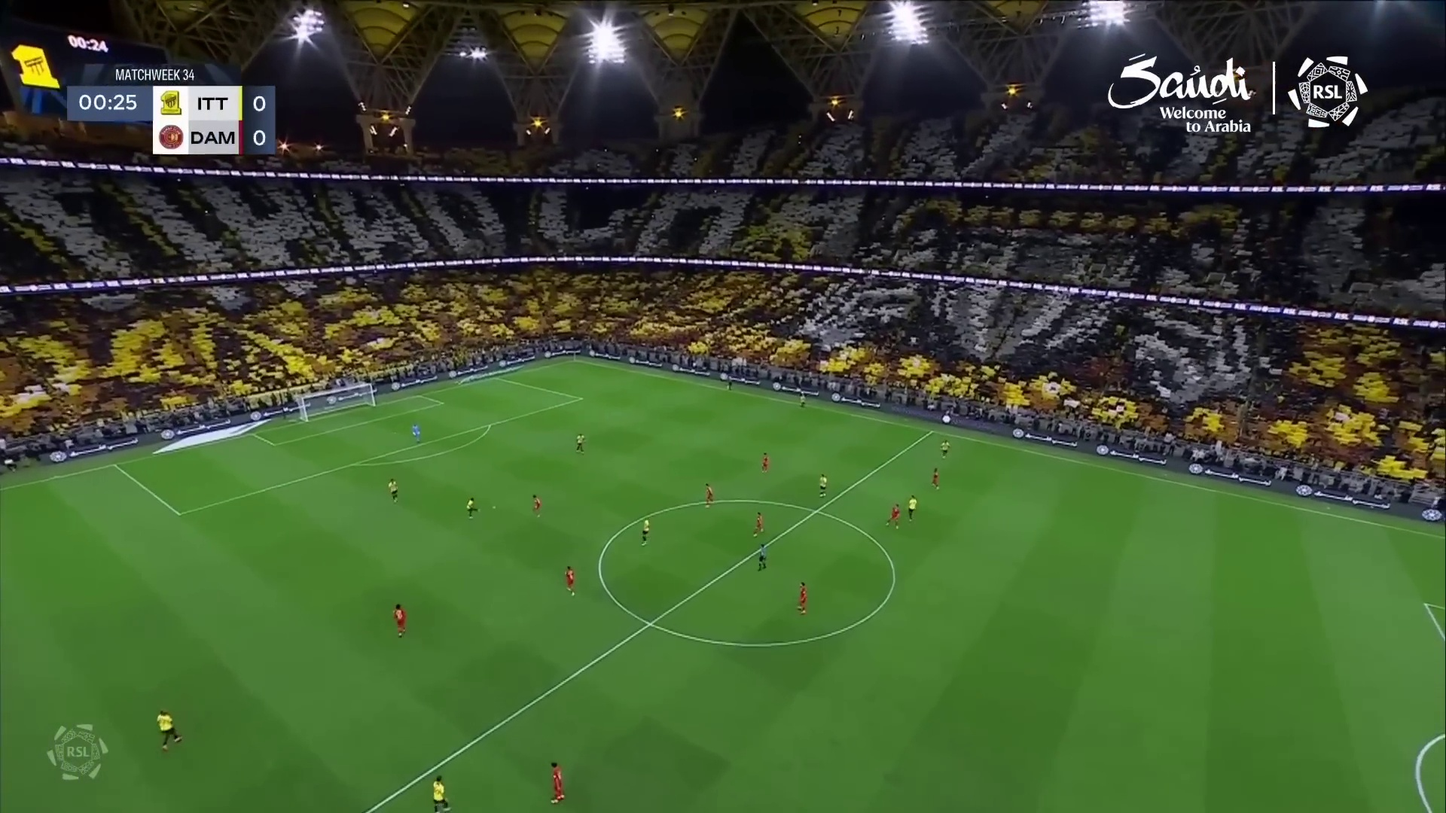ball: (491, 506, 497, 509)
player: (154, 709, 186, 751), (547, 761, 568, 804), (428, 776, 452, 812), (390, 602, 409, 639), (796, 580, 811, 616), (562, 565, 578, 597), (701, 481, 717, 510), (638, 517, 653, 547), (751, 510, 767, 538), (886, 502, 902, 530), (386, 478, 402, 504), (464, 495, 480, 521), (529, 492, 544, 519), (464, 496, 480, 520), (929, 464, 943, 491), (816, 472, 830, 499), (758, 450, 773, 474), (906, 495, 919, 521), (410, 422, 424, 446), (574, 432, 587, 455), (938, 439, 952, 459), (796, 390, 808, 411)
referee: (755, 542, 772, 573), (723, 372, 734, 392)
